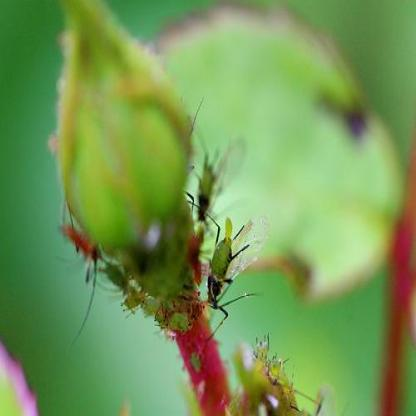aphid: (255, 313, 315, 416), (183, 132, 246, 225), (197, 210, 244, 326), (99, 261, 151, 320), (152, 298, 204, 336)
